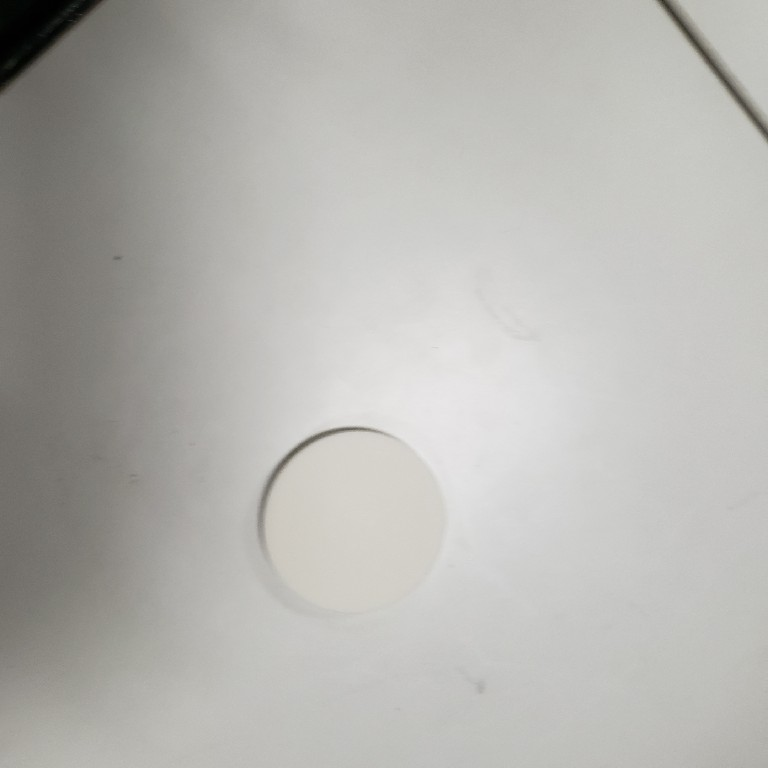ceramics: (253, 422, 452, 618)
